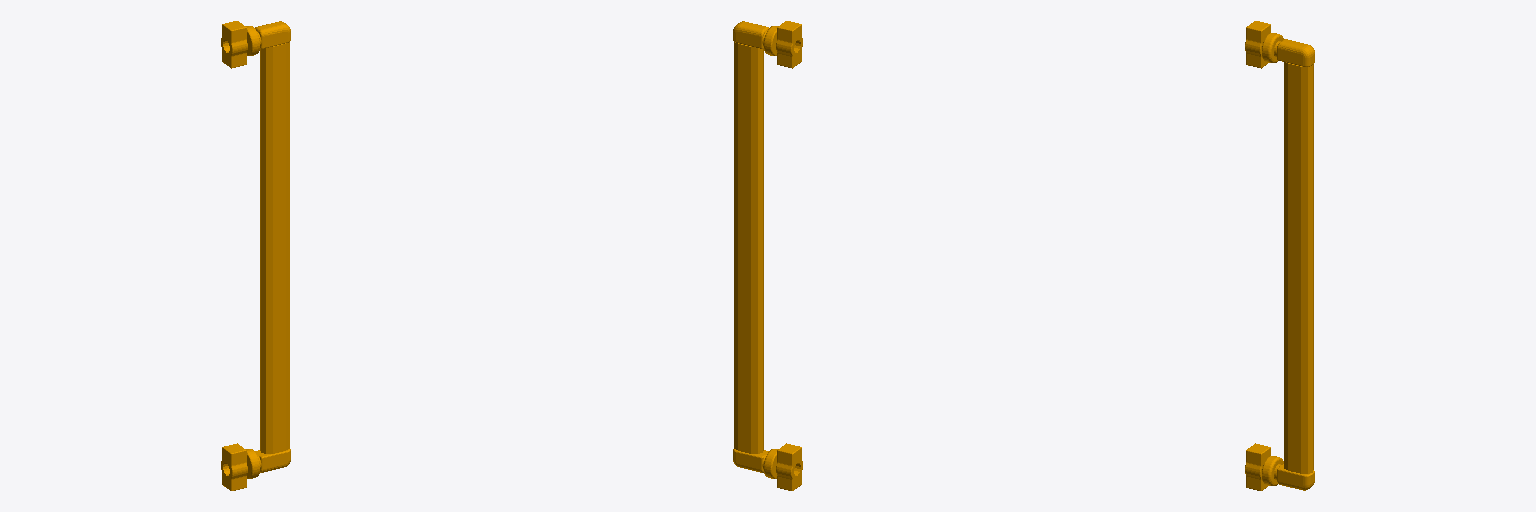
The robot description file, URDF, robot "handrail":
<?xml version="1.0"?>

<!-- Copyright (c) 2017, United States Government, as represented by the     -->
<!-- Administrator of the National Aeronautics and Space Administration.     -->
<!--                                                                         -->
<!-- All rights reserved.                                                    -->
<!--                                                                         -->
<!-- The Astrobee platform is licensed under the Apache License, Version 2.0 -->
<!-- (the "License"); you may not use this file except in compliance with    -->
<!-- the License. You may obtain a copy of the License at                    -->
<!--                                                                         -->
<!--     http://www.apache.org/licenses/LICENSE-2.0                          -->
<!--                                                                         -->
<!-- Unless required by applicable law or agreed to in writing, software     -->
<!-- distributed under the License is distributed on an "AS IS" BASIS,       -->
<!-- WITHOUT WARRANTIES OR CONDITIONS OF ANY KIND, either express or         -->
<!-- implied. See the License for the specific language governing            -->
<!-- permissions and limitations under the License.                          -->

<robot name="handrail" xmlns:xacro="http://www.ros.org/wiki/xacro">
  <link name="body">
    <inertial>
      <mass value="20"/>
      <origin xyz="0 0 0"/>
      <inertia ixx="1" ixy="0" ixz="0" iyy="1" iyz="0" izz="1"/>
    </inertial>
    <visual name="body_visual">
      <origin xyz="0 0 0" rpy="0 0 0" />
      <geometry>
        <mesh filename="package://astrobee_handrail_21_5/meshes/handrail_21_5.dae"/>
      </geometry>
    </visual>
    <collision name="body_collision">
      <origin xyz="0 0 0" rpy="0 0 0" />
      <geometry>
        <mesh filename="package://astrobee_handrail_21_5/meshes/handrail_21_5.dae"/>
      </geometry>
    </collision>
  </link>
  <gazebo>
    <static>true</static>
  </gazebo>
</robot>

--- Facts derived from the render (not from the file) ---
The picture shows the robot from 3 angles, left to right: view 1: azimuth 30°, elevation 25°; view 2: azimuth 150°, elevation 25°; view 3: azimuth 330°, elevation 25°; orthographic projection.
Robot: handrail — 1 links, 0 joints (none); root link body; default pose: every joint at zero.
Visible links, largest first — view 1: body; view 2: body; view 3: body.
Boxes of the visible links, bbox=[...] form: body: bbox=[221, 21, 290, 490]; body: bbox=[733, 21, 802, 490]; body: bbox=[1245, 21, 1314, 490].
Size in the robot's own frame: 0.0782 by 0.033 by 0.5528 metres.
1 mesh visuals loaded from 1 distinct referenced files (1 Collada DAE).
